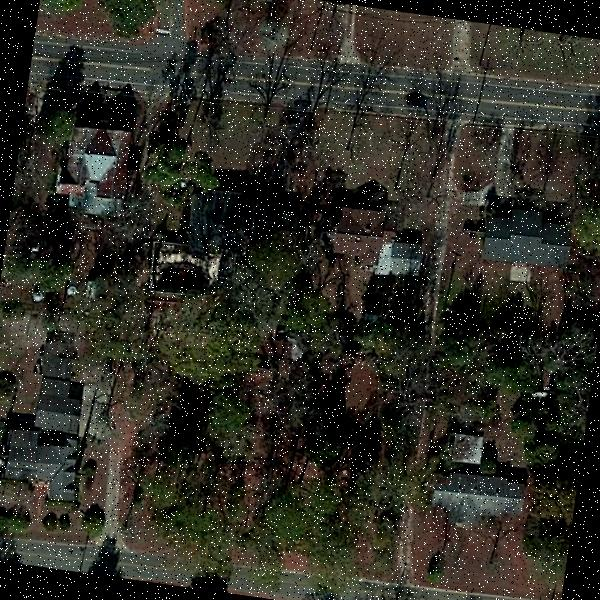Buildings: (5, 336, 92, 510), (326, 209, 427, 275), (60, 135, 132, 212), (488, 208, 572, 264), (432, 474, 514, 525)
